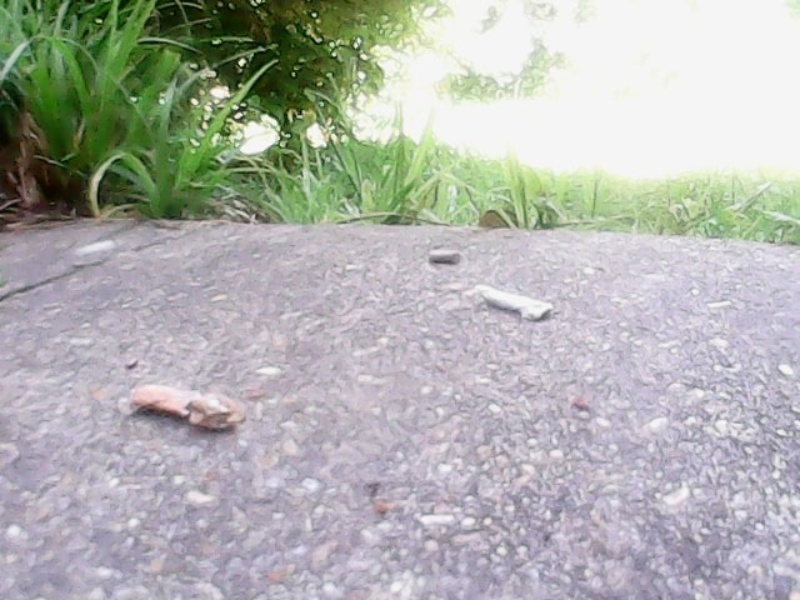cig: (123, 374, 252, 436), (468, 277, 560, 330), (426, 245, 465, 267)
